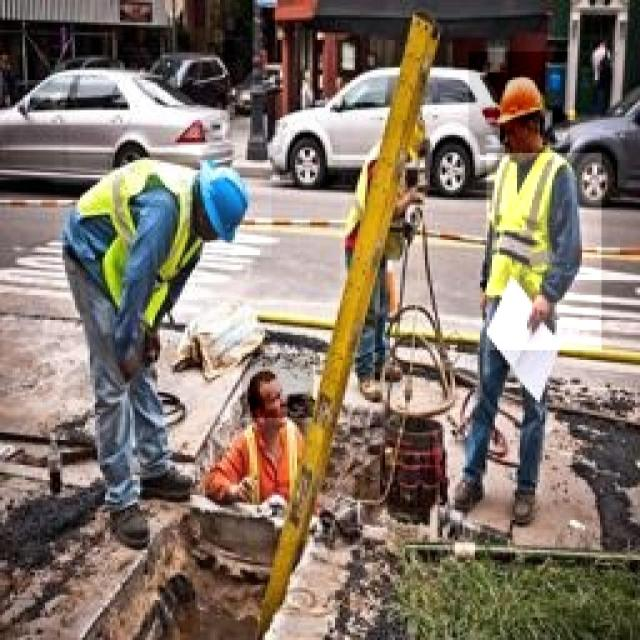Helmet: (180, 137, 272, 257), (468, 52, 570, 154), (242, 354, 314, 436)
Safety Vest: (55, 156, 197, 338), (487, 153, 602, 350), (340, 139, 425, 309), (222, 418, 322, 540)
